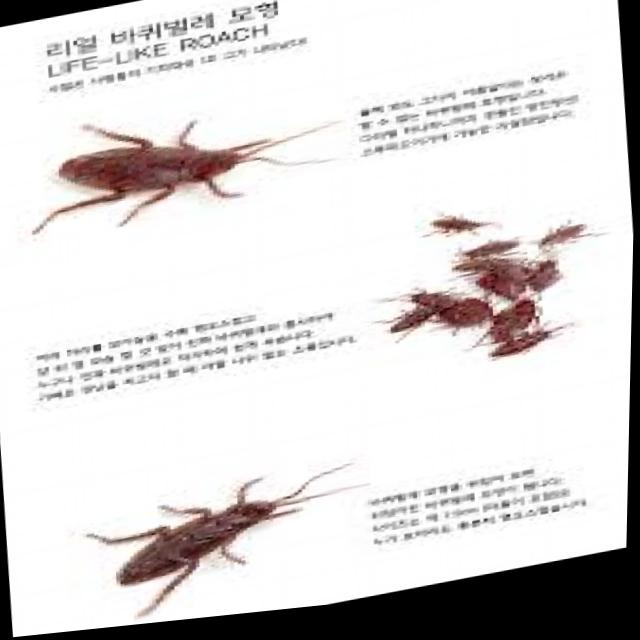Cockroach: (0, 54, 358, 280), (72, 437, 344, 633)
